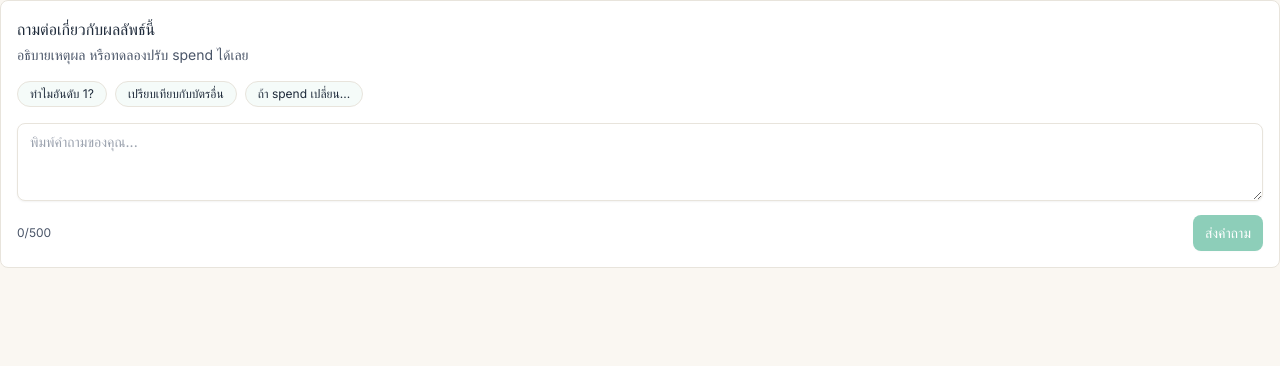
ChatPanel › submits the question to POST /selector/{id}/chat and renders the answer on 200
Type "ทำไมบัตรอันดับ 1?" into the text box with placeholder "พิมพ์คำถามของคุณ..." at (640,162), box [17,123,1263,201]
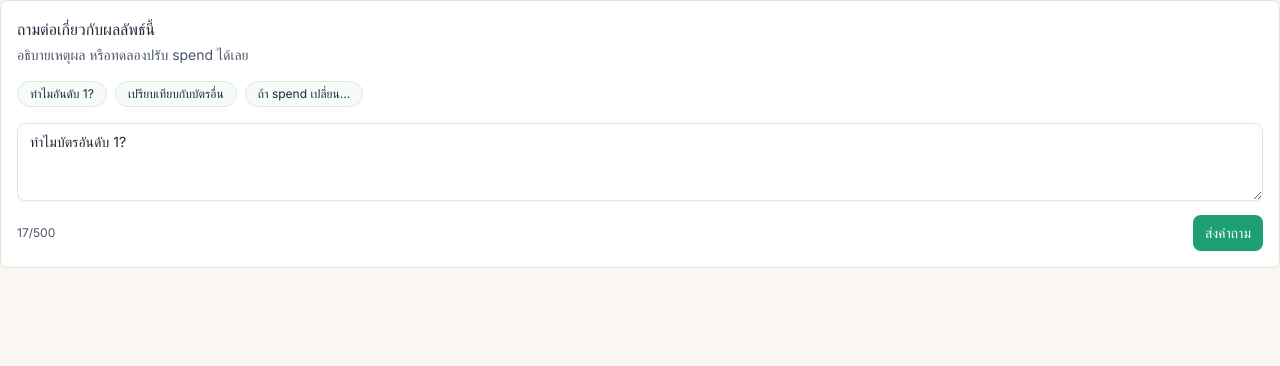
Click the button "ส่งคำถาม" at (1228,233), box [1193,215,1263,251]
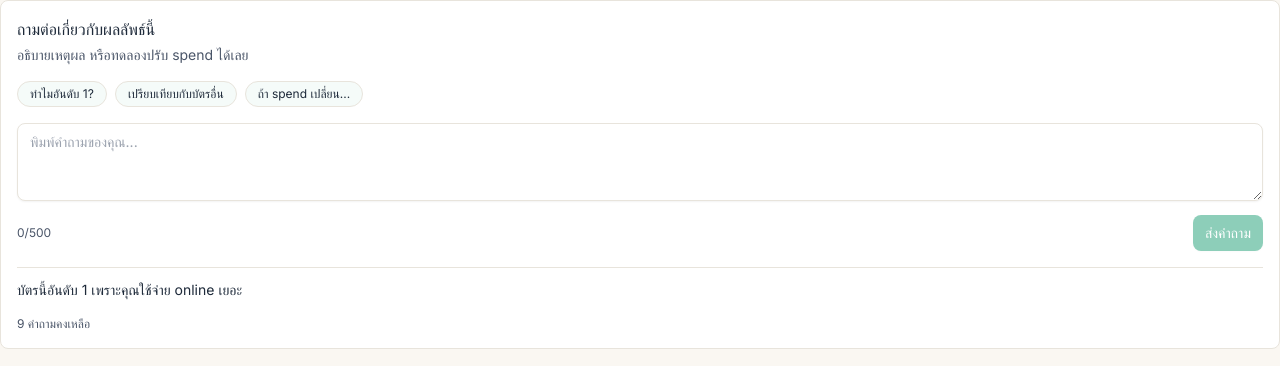
Expected: the text "บัตรนี้อันดับ 1 เพราะคุณใช้จ่าย online เยอะ" is shown, [17,281,242,298]
Expected: the text "9 คำถามคงเหลือ" is shown, [17,316,90,331]
